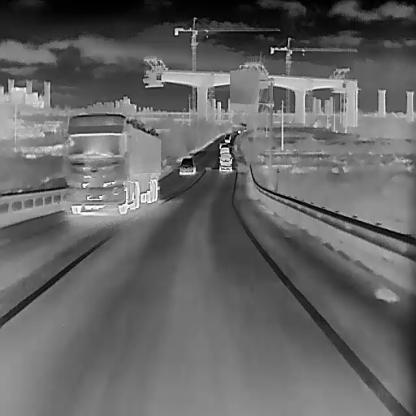car: (66, 112, 160, 214), (218, 152, 233, 173), (179, 157, 194, 175), (218, 142, 229, 154), (223, 136, 229, 142), (227, 133, 230, 138), (243, 127, 246, 132), (237, 130, 240, 133)
